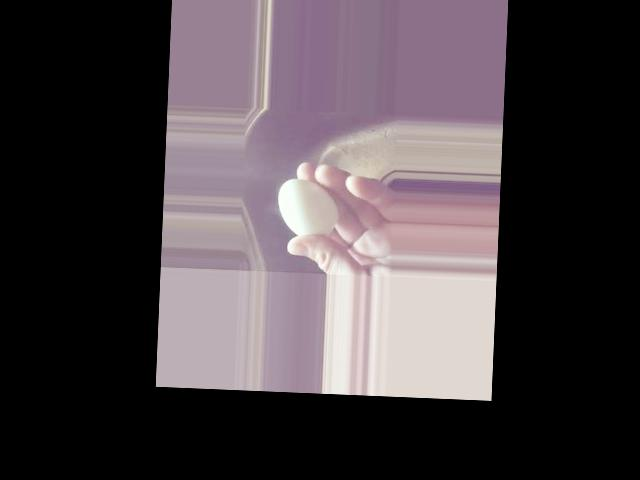egg: (276, 178, 339, 237)
